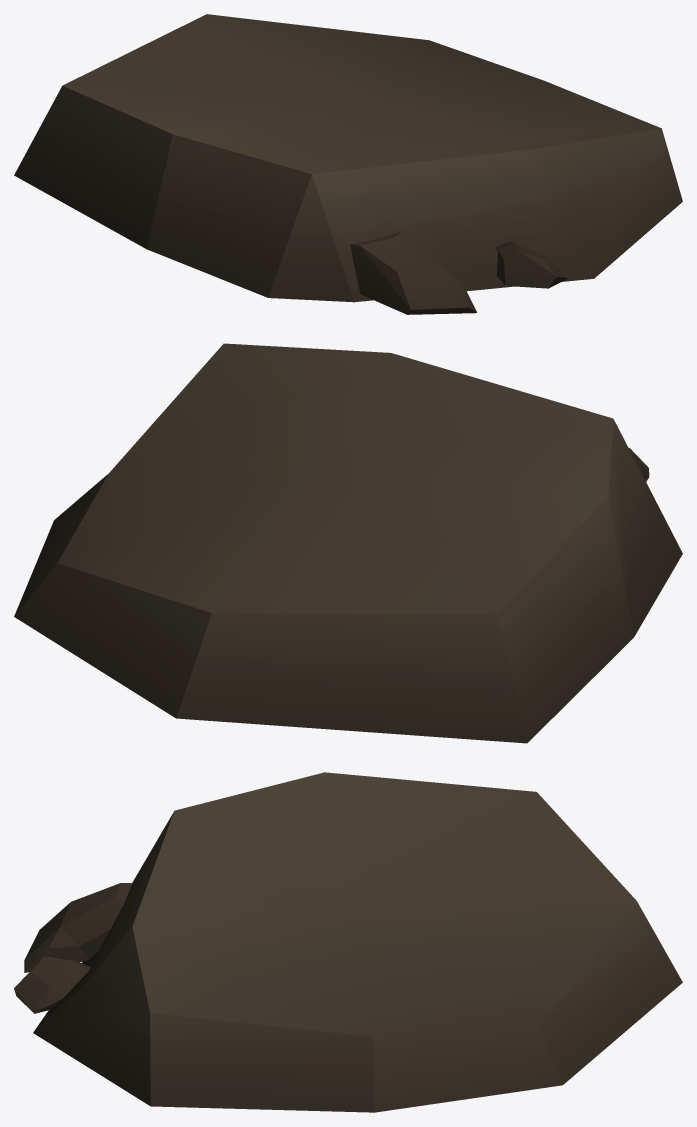
The model's file is LandMass_C.fbx.
3 renders of one model, top to bottom at view 1: azimuth 30°, elevation 25°; view 2: azimuth 150°, elevation 25°; view 3: azimuth 270°, elevation 25°, orthographic. The views are drawn at different scales.
Visible parts, largest first — view 1: LandMass_C; view 2: LandMass_C; view 3: LandMass_C.
Part boxes in pixels (<box>): LandMass_C: <box>14,14,682,314</box>; LandMass_C: <box>14,343,682,743</box>; LandMass_C: <box>14,772,682,1112</box>.
Size of the model in its own units: 5513 by 6276 by 1226.
1 material, 1 textured.
